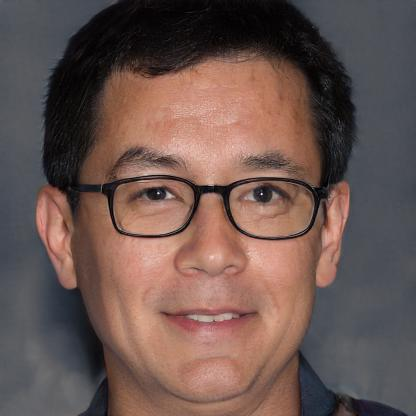glasses: (87, 168, 324, 242)
